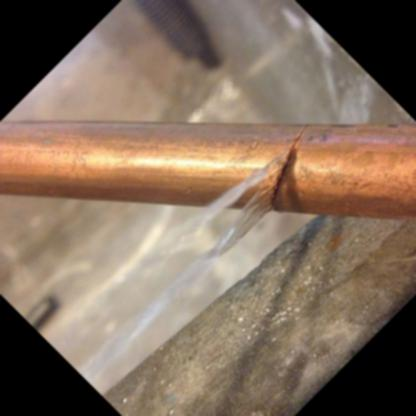burst: (219, 141, 302, 231)
